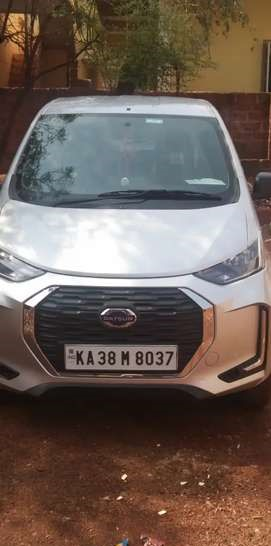KA38M8037: (65, 344, 178, 370)
